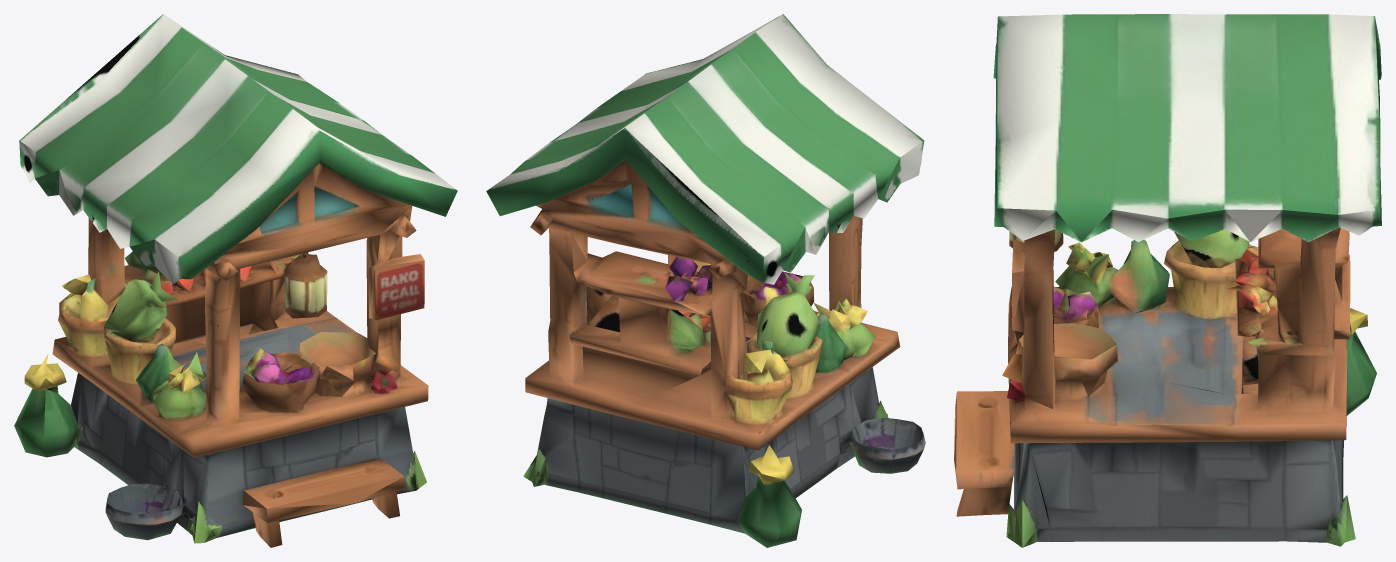
File: awning_stall_3_3000.glb
The picture shows the model from 3 angles, left to right: view 1: azimuth 30°, elevation 25°; view 2: azimuth 150°, elevation 25°; view 3: azimuth 270°, elevation 25°; orthographic projection. The views are drawn at different scales.
Visible parts, largest first — view 1: t3000; view 2: t3000; view 3: t3000.
Boxes of the visible parts, bbox=[...] form: t3000: bbox=[14, 14, 457, 547]; t3000: bbox=[486, 14, 925, 547]; t3000: bbox=[954, 14, 1381, 547].
Size of the model in its own units: 1.6 by 1.91 by 1.58.
1 material, 1 textured.
